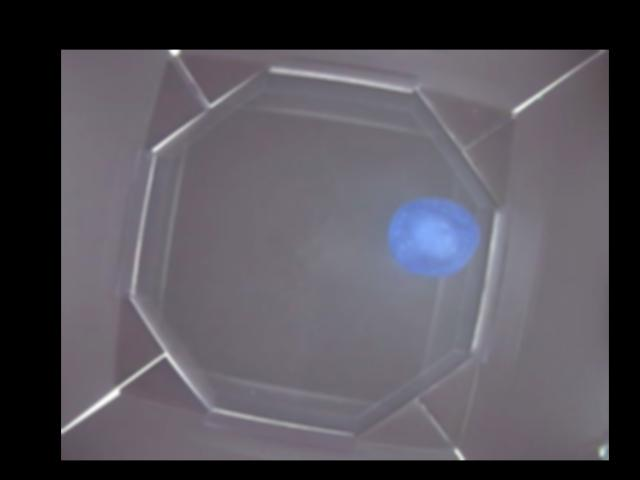Potato: (388, 196, 479, 278)
